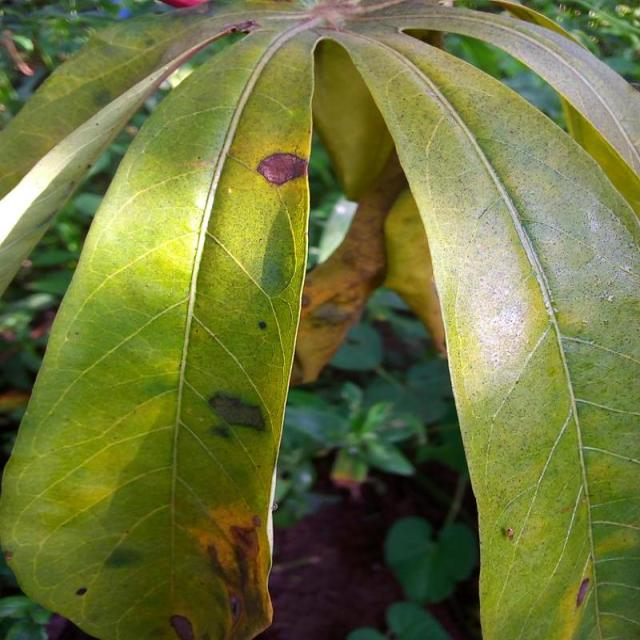cassava leaf: (1, 3, 638, 638), (314, 22, 638, 638), (0, 16, 318, 638)
